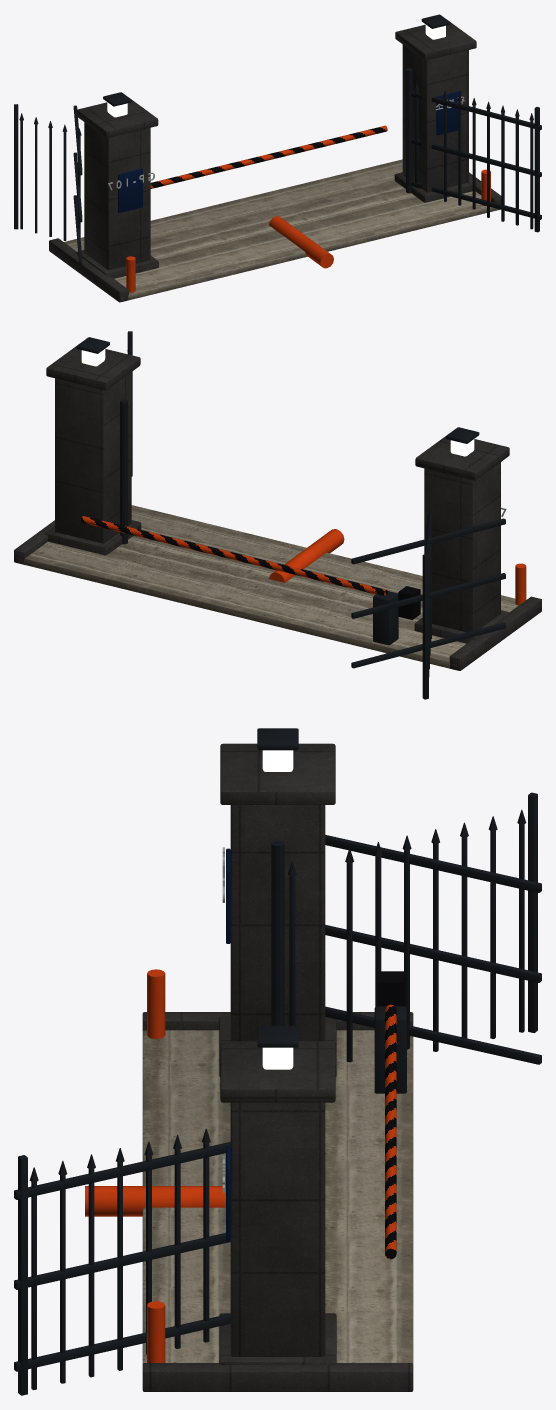
The model's file is site_gate.glb.
3 views of the same model, one above another, from view 1: azimuth 30°, elevation 25°; view 2: azimuth 150°, elevation 25°; view 3: azimuth 270°, elevation 25° (orthographic). The views are drawn at different scales.
Visible parts, largest first — view 1: SITE_GATE; view 2: SITE_GATE; view 3: SITE_GATE.
Boxes of the visible parts, <box> form: SITE_GATE: <box>14,14,541,302</box>; SITE_GATE: <box>14,331,541,699</box>; SITE_GATE: <box>14,728,541,1395</box>.
Size of the model in its own units: 9.65 by 4.04 by 5.85.
9 materials, 8 textured.
